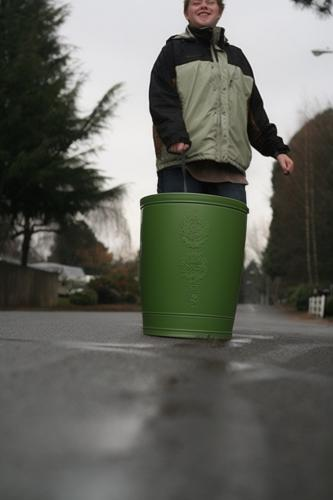person: (149, 2, 296, 331)
person/foot: (168, 312, 197, 332), (221, 298, 235, 324)
person/hand: (275, 154, 294, 176), (168, 142, 189, 154)
person/head: (182, 1, 223, 28)
pottedplant: (140, 191, 245, 338)
